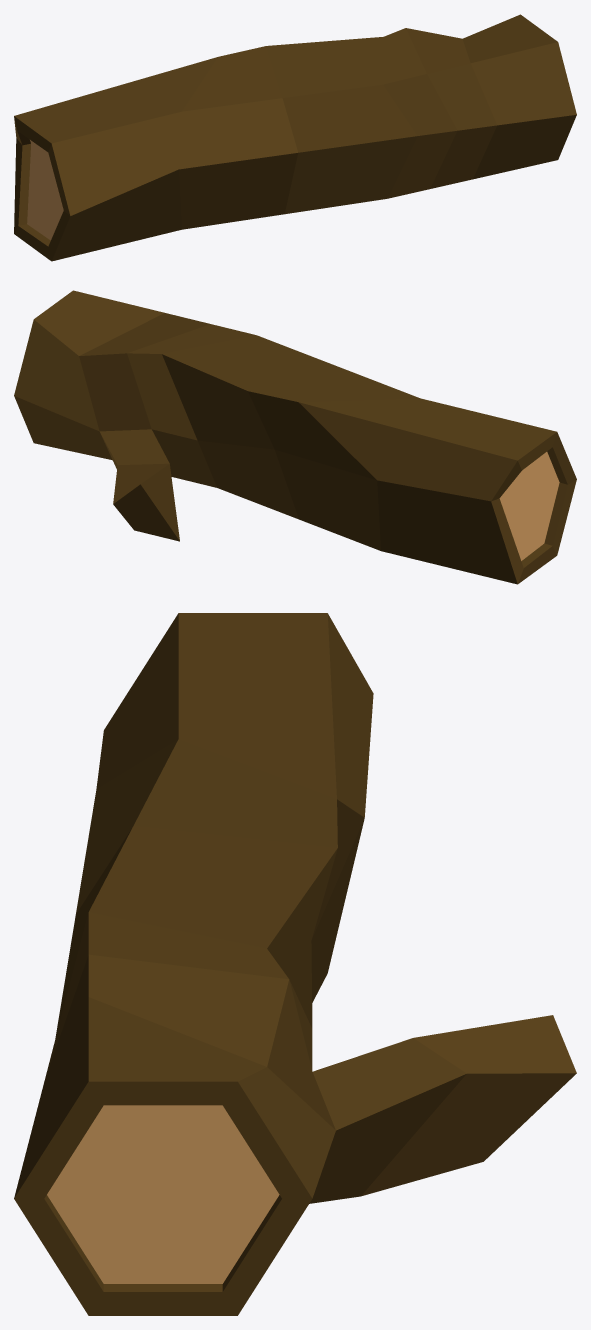
Rendered from log_02.fbx.
3 views of the same model, one above another, from view 1: azimuth 30°, elevation 25°; view 2: azimuth 150°, elevation 25°; view 3: azimuth 270°, elevation 25° (orthographic). The views are drawn at different scales.
Visible parts, largest first — view 1: Cylinder.001; view 2: Cylinder.001; view 3: Cylinder.001.
Part boxes in pixels (x1,y1,x2,y2): Cylinder.001: (14,14,576,261); Cylinder.001: (14,290,576,584); Cylinder.001: (14,613,576,1315).
Size of the model in its own units: 132 by 32.52 by 66.85.
